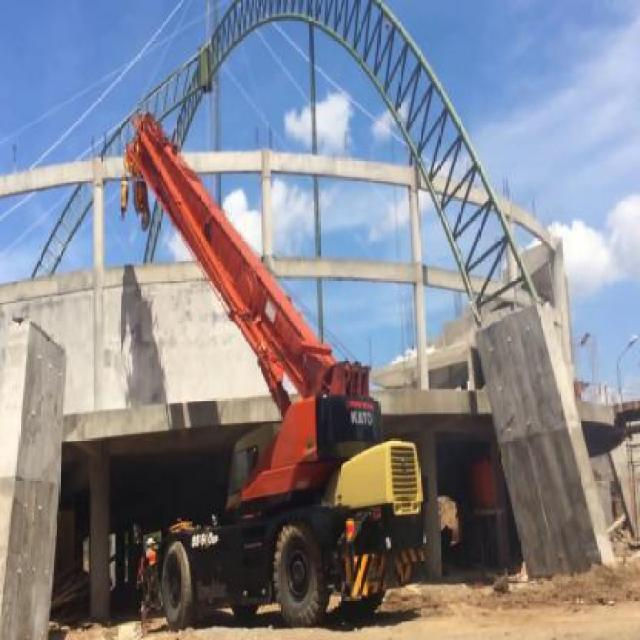Mobile Crane: (124, 112, 422, 638)
